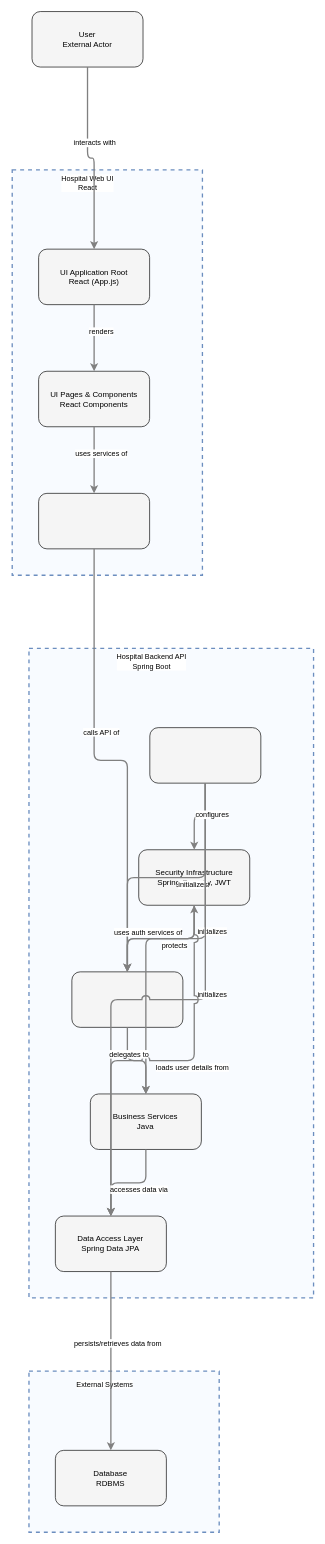
Image size: 325x1544. Some labels were removed from this diagram. The centre of each missing label's shape, as x and y in pixels:
API Client Services JavaScript, Axios: point (94, 521)
API Controllers Spring MVC: point (127, 999)
Spring Boot Application Java (HospitalApplication.java): point (205, 755)
